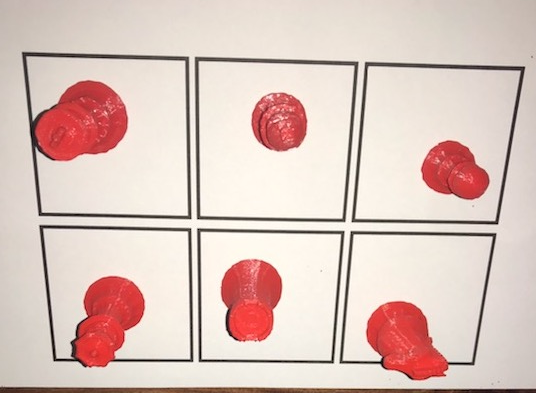Red Bishop: (247, 85, 313, 155)
Red Castle: (215, 252, 285, 349)
Red King: (28, 72, 132, 163)
Red Knight: (364, 298, 452, 385)
Red Pawn: (412, 134, 495, 202)
Red Queen: (65, 272, 149, 371)
